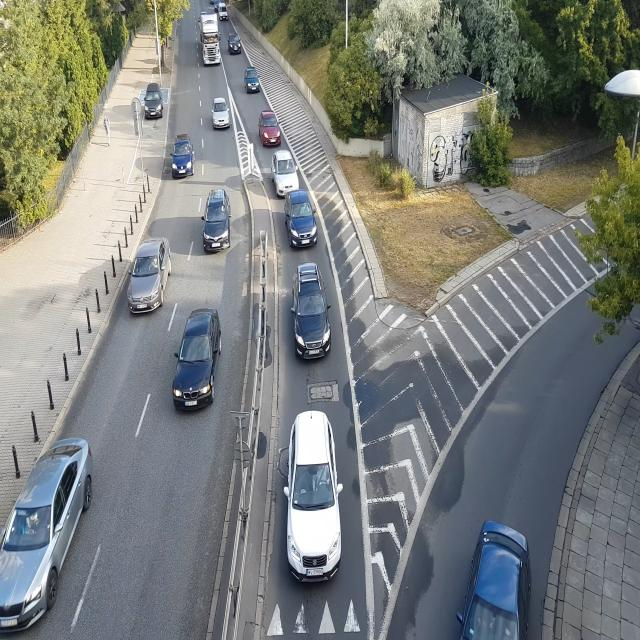car: (0, 438, 96, 632), (454, 508, 543, 640), (286, 411, 346, 588), (172, 310, 221, 414), (127, 239, 173, 317), (293, 268, 332, 360), (282, 192, 320, 248), (202, 188, 232, 253), (272, 150, 300, 198), (172, 136, 197, 180), (258, 111, 282, 148), (212, 98, 232, 131), (144, 85, 164, 118), (243, 72, 260, 93), (228, 38, 242, 56), (219, 0, 229, 22)
truck: (197, 9, 221, 66)
